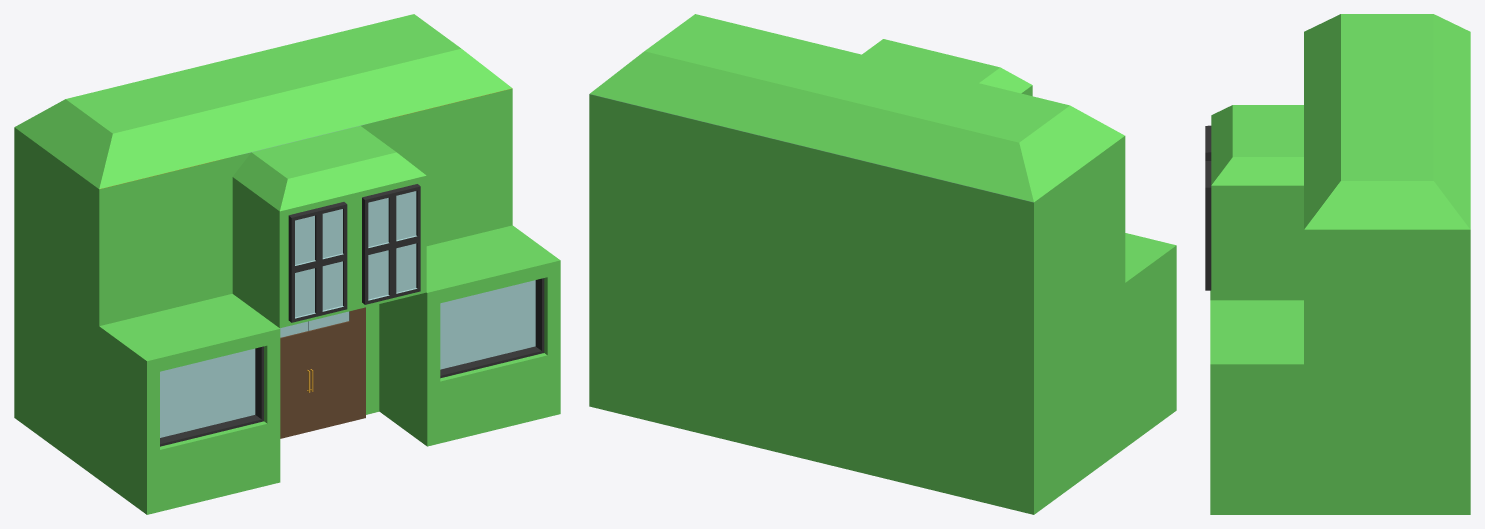
Rendered from House Grn.fbx.
3 renders of one model, left to right at view 1: azimuth 30°, elevation 25°; view 2: azimuth 150°, elevation 25°; view 3: azimuth 270°, elevation 25°, orthographic. The views are drawn at different scales.
Visible parts, largest first — view 1: Cube; view 2: Cube; view 3: Cube.
Part boxes in pixels (bbox=[...]): Cube: bbox=[14, 14, 560, 514]; Cube: bbox=[589, 14, 1176, 514]; Cube: bbox=[1205, 14, 1470, 514].
Size of the model in its own units: 2552 by 1915 by 1443.
